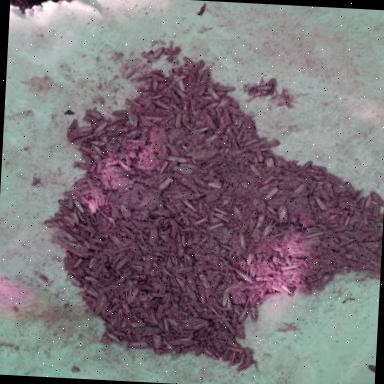pbw: (84, 140, 106, 157), (54, 210, 77, 226), (142, 244, 168, 258), (304, 224, 330, 238), (313, 181, 332, 200), (247, 80, 276, 92), (220, 284, 234, 308), (208, 209, 232, 223), (182, 284, 200, 302), (156, 174, 174, 192), (124, 286, 141, 305), (69, 206, 85, 226), (246, 136, 268, 150), (119, 160, 138, 176), (180, 177, 200, 192), (168, 218, 181, 241), (114, 297, 131, 314), (316, 272, 332, 290), (218, 94, 234, 112), (200, 112, 216, 130), (291, 181, 309, 197), (244, 114, 257, 136), (126, 110, 140, 130), (236, 304, 250, 324), (234, 268, 254, 282), (171, 276, 188, 292), (116, 203, 132, 220), (60, 229, 78, 244), (64, 186, 86, 198), (151, 331, 163, 353), (84, 134, 106, 146), (368, 190, 384, 206), (68, 271, 84, 287), (197, 272, 213, 288), (276, 280, 294, 294), (322, 180, 336, 198), (71, 194, 85, 212), (82, 282, 100, 296), (262, 219, 275, 238), (236, 360, 258, 371), (152, 99, 174, 110), (205, 220, 227, 231), (147, 225, 159, 245), (313, 194, 328, 210), (240, 136, 260, 148), (86, 198, 98, 218), (172, 73, 186, 90), (343, 180, 357, 197), (243, 346, 256, 364), (144, 290, 167, 300), (247, 164, 263, 178), (93, 119, 110, 132), (280, 262, 302, 272), (171, 164, 193, 174), (247, 304, 259, 322), (186, 272, 198, 290), (107, 332, 125, 344), (148, 72, 160, 90), (206, 130, 224, 142), (179, 162, 200, 172), (265, 186, 280, 200), (88, 253, 102, 268), (225, 105, 244, 116), (356, 195, 367, 214), (231, 316, 247, 329), (193, 213, 209, 226), (254, 274, 274, 284), (362, 238, 382, 248), (278, 203, 288, 223), (84, 109, 104, 119), (300, 236, 320, 246), (198, 284, 208, 304), (106, 120, 124, 131), (184, 207, 202, 218), (138, 210, 152, 224), (172, 84, 186, 98), (206, 86, 220, 100), (165, 154, 189, 162), (354, 186, 366, 202), (234, 114, 246, 130), (158, 159, 170, 175), (159, 276, 171, 292), (248, 88, 272, 96), (262, 172, 278, 184), (180, 198, 196, 210), (210, 205, 229, 215), (192, 124, 211, 134), (105, 157, 122, 168), (237, 233, 248, 250), (255, 211, 266, 228), (193, 173, 206, 187), (223, 320, 236, 334), (71, 255, 84, 269), (167, 142, 180, 156), (262, 138, 282, 147), (184, 148, 206, 156), (182, 118, 193, 134), (219, 110, 230, 126), (212, 85, 237, 92), (212, 273, 222, 290), (189, 190, 206, 200), (220, 256, 234, 268), (134, 230, 146, 244), (203, 346, 217, 358), (220, 194, 234, 206), (132, 218, 146, 230), (86, 160, 98, 174), (280, 156, 292, 170), (153, 46, 167, 58), (169, 196, 183, 208), (231, 279, 245, 291), (116, 256, 128, 270), (264, 155, 275, 170), (173, 189, 191, 198), (122, 128, 140, 137), (141, 117, 159, 126), (74, 160, 92, 169), (84, 240, 100, 250), (161, 316, 171, 332), (196, 200, 206, 216), (304, 166, 324, 174), (238, 256, 248, 272), (229, 350, 239, 366), (188, 135, 200, 148), (182, 54, 195, 66), (265, 203, 278, 215), (57, 198, 68, 212), (296, 275, 310, 286), (247, 289, 258, 303), (246, 251, 257, 265), (207, 179, 224, 188), (83, 276, 102, 284), (225, 345, 244, 353), (123, 272, 142, 280), (112, 244, 131, 252), (195, 58, 205, 73), (203, 100, 218, 110), (202, 67, 212, 82), (112, 124, 127, 134), (236, 323, 246, 338), (139, 307, 149, 322), (248, 150, 260, 162), (125, 136, 143, 144), (196, 142, 214, 150), (174, 112, 183, 128), (110, 234, 122, 246), (100, 176, 112, 188), (302, 172, 314, 184), (98, 296, 107, 312), (306, 172, 324, 180), (154, 208, 172, 216), (182, 102, 190, 120), (247, 214, 255, 232), (188, 303, 199, 316), (232, 205, 243, 218), (130, 263, 144, 273), (340, 236, 354, 246), (280, 248, 290, 262), (100, 154, 114, 164), (268, 260, 278, 274), (207, 192, 221, 202), (192, 103, 200, 120), (207, 312, 226, 319), (122, 225, 134, 236), (131, 311, 143, 322), (110, 263, 122, 274), (131, 242, 142, 254), (126, 342, 148, 348), (142, 260, 152, 273), (162, 267, 175, 277), (133, 140, 146, 150), (195, 252, 208, 262), (141, 282, 157, 290), (178, 264, 194, 272), (128, 98, 144, 106), (160, 126, 168, 142), (104, 283, 120, 291), (231, 136, 240, 150), (291, 249, 309, 256), (338, 201, 356, 208), (195, 319, 209, 328), (236, 128, 245, 142), (161, 141, 170, 155), (208, 243, 219, 254), (180, 141, 190, 153), (239, 221, 249, 233), (135, 332, 147, 342), (178, 238, 184, 258), (184, 252, 194, 264), (229, 237, 237, 252), (142, 254, 162, 260), (192, 302, 204, 312), (144, 114, 164, 120), (150, 309, 158, 324), (262, 182, 274, 192), (238, 292, 248, 304), (152, 260, 162, 272), (83, 225, 98, 233), (206, 268, 225, 274), (234, 147, 248, 155), (158, 302, 166, 316), (113, 329, 127, 337), (138, 164, 154, 171), (164, 204, 178, 212), (250, 263, 258, 277), (168, 128, 176, 142), (160, 232, 171, 242), (302, 160, 313, 170), (107, 215, 117, 226), (296, 284, 308, 293), (270, 243, 282, 252), (202, 161, 214, 170), (282, 242, 300, 248), (92, 235, 104, 244), (245, 282, 263, 288), (178, 328, 196, 334), (225, 340, 242, 346), (226, 246, 236, 256), (178, 211, 188, 221), (209, 296, 219, 306), (186, 237, 196, 247), (172, 94, 182, 104), (274, 164, 284, 174), (164, 340, 174, 350), (154, 215, 163, 226), (112, 315, 121, 326), (195, 93, 206, 102), (231, 292, 240, 303), (213, 332, 224, 341), (115, 250, 124, 261), (209, 305, 220, 314), (284, 169, 298, 176), (272, 285, 286, 292), (214, 315, 230, 321), (222, 348, 230, 360), (327, 206, 343, 212), (140, 330, 152, 338), (152, 278, 160, 290), (258, 146, 264, 162), (126, 328, 134, 340), (166, 256, 174, 268), (181, 233, 188, 246), (220, 242, 233, 249), (285, 274, 298, 281), (251, 196, 258, 209), (254, 246, 272, 251), (188, 86, 197, 96), (212, 347, 221, 357), (258, 251, 264, 266), (163, 86, 172, 96), (178, 336, 193, 342), (124, 153, 132, 164), (196, 263, 204, 274), (131, 322, 145, 328), (182, 225, 194, 232), (152, 92, 164, 99), (146, 324, 160, 330), (278, 223, 290, 230), (166, 292, 172, 306), (124, 144, 132, 154), (182, 216, 190, 226), (198, 336, 206, 346), (125, 278, 135, 286), (130, 148, 138, 158), (168, 317, 178, 325), (274, 254, 280, 267), (363, 225, 376, 231), (327, 213, 338, 220), (226, 124, 232, 136), (258, 288, 264, 300), (162, 330, 174, 336), (122, 315, 128, 327), (106, 322, 115, 330), (274, 231, 284, 238), (344, 214, 351, 224), (215, 340, 222, 350), (364, 214, 370, 225), (172, 300, 178, 311), (108, 308, 114, 319), (164, 307, 171, 316), (201, 234, 208, 242), (266, 284, 273, 292), (224, 146, 229, 156), (223, 132, 228, 142)
